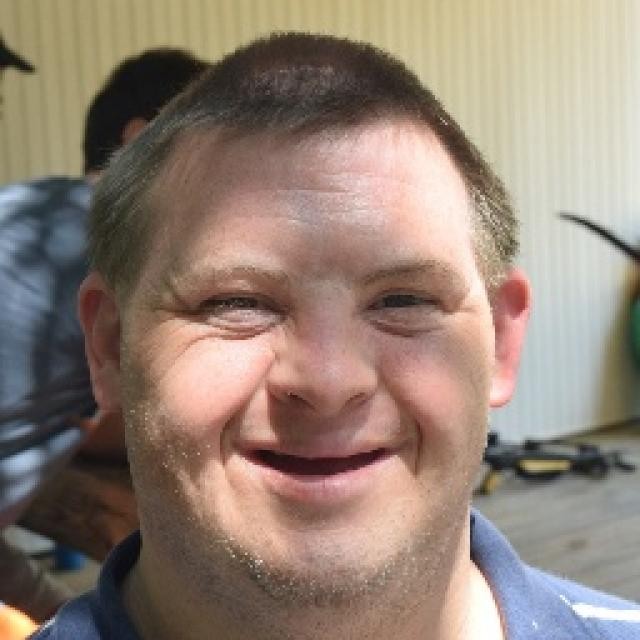earlobe: (91, 368, 127, 416), (486, 358, 518, 409)
eye: (206, 284, 277, 322), (366, 287, 442, 321)
nose: (263, 401, 381, 435)
wholeear: (77, 275, 126, 416), (485, 268, 534, 408)
